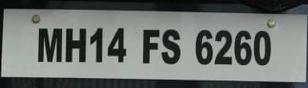0: (253, 30, 276, 66)
1: (89, 27, 107, 65)
2: (215, 27, 236, 72)
4: (108, 25, 128, 65)
6: (193, 27, 215, 67), (234, 28, 255, 65)
F: (139, 27, 161, 65)
H: (65, 25, 88, 65)
M: (37, 26, 64, 64)
S: (162, 28, 183, 69)
